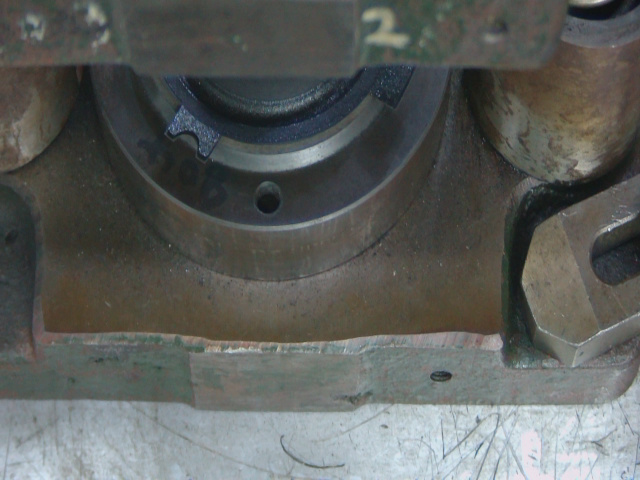HX2: (167, 104, 230, 169)
